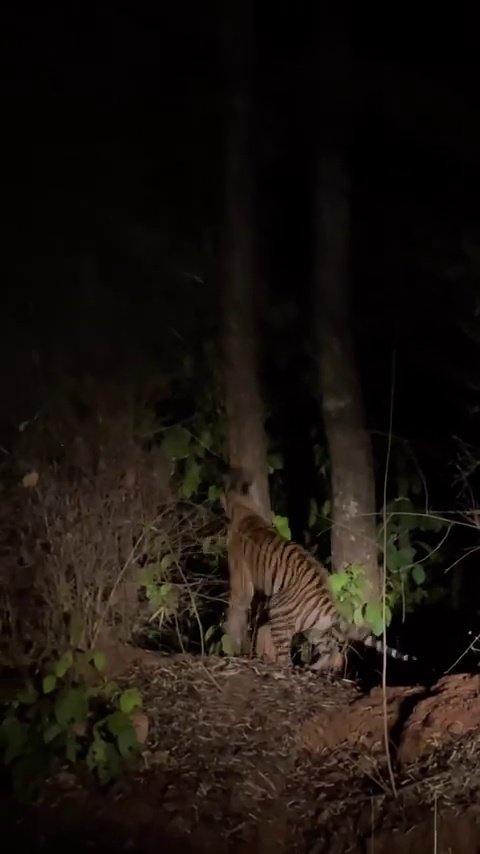Tiger: (208, 467, 421, 675)
